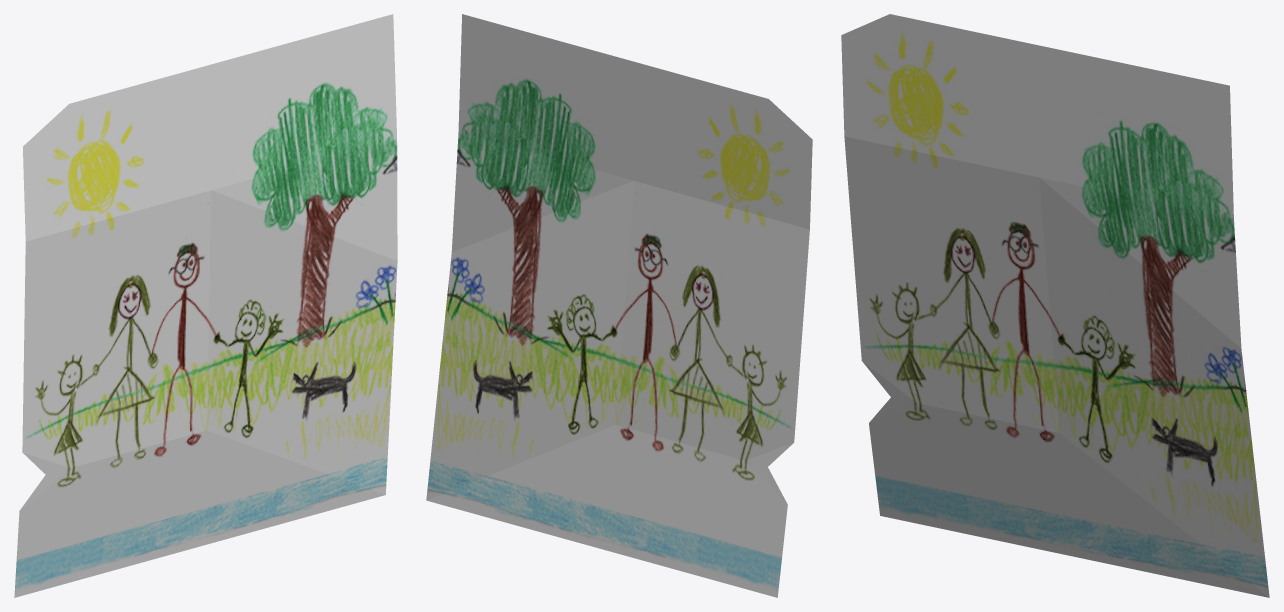
Rendered from SM_ChildArt3.fbx.
3 renders of one model, left to right at view 1: azimuth 30°, elevation 25°; view 2: azimuth 150°, elevation 25°; view 3: azimuth 330°, elevation 25°, orthographic. The views are drawn at different scales.
Parts seen in each view (by area): view 1: SM_ChildArt3; view 2: SM_ChildArt3; view 3: SM_ChildArt3.
Boxes of the visible parts, x1,y1,x2,y2 form: SM_ChildArt3: [14, 14, 397, 597]; SM_ChildArt3: [426, 14, 812, 597]; SM_ChildArt3: [841, 14, 1269, 597].
Size of the model in its own units: 22.41 by 28.52 by 2.28.
